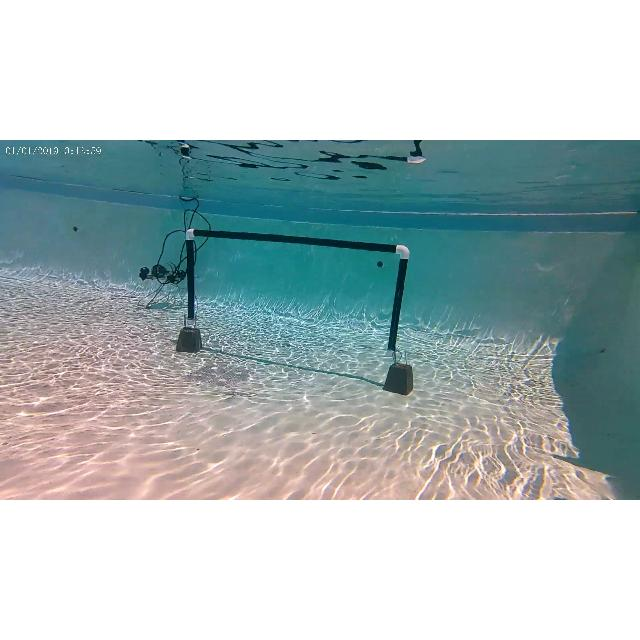prequal gate: (186, 228, 410, 356)
prequal gate leg l: (174, 230, 203, 354)
prequal gate leg r: (384, 243, 418, 393)
